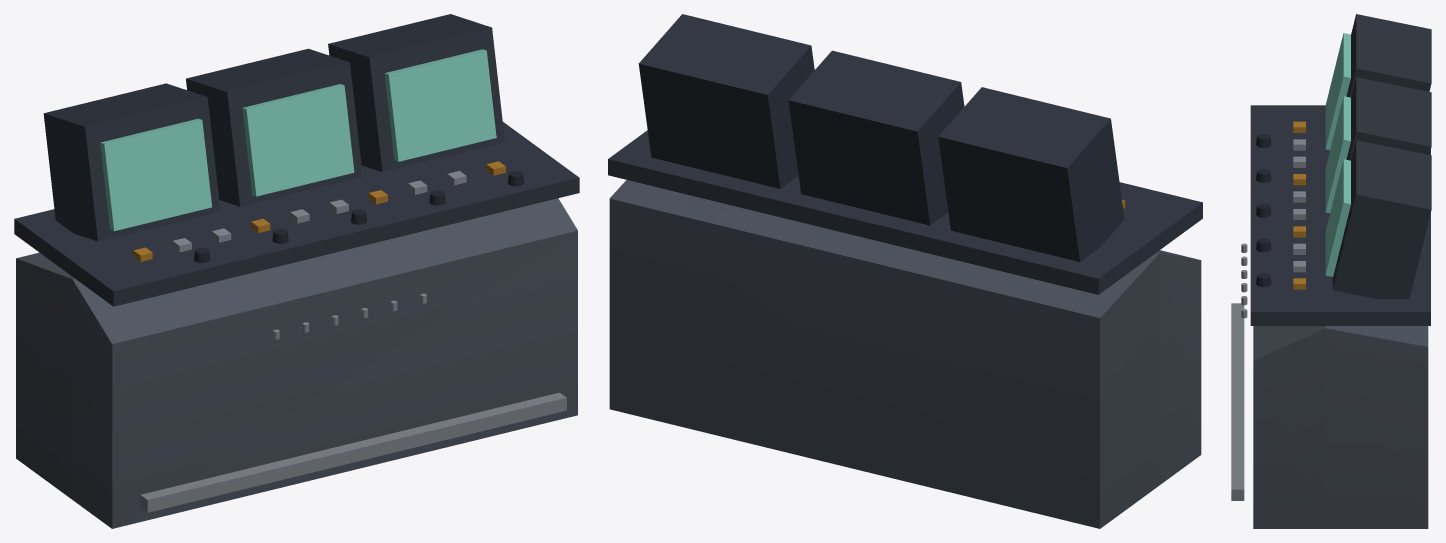
The model's file is control_console.glb.
3 renders of one model, left to right at view 1: azimuth 30°, elevation 25°; view 2: azimuth 150°, elevation 25°; view 3: azimuth 270°, elevation 25°, orthographic. The views are drawn at different scales.
Visible parts, largest first — view 1: control_console; view 2: control_console; view 3: control_console.
Boxes of the visible parts, x1,y1,x2,y2 form: control_console: [14, 14, 579, 528]; control_console: [608, 14, 1202, 528]; control_console: [1231, 14, 1431, 528].
Size of the model in its own units: 1.9 by 1.38 by 0.7773.
